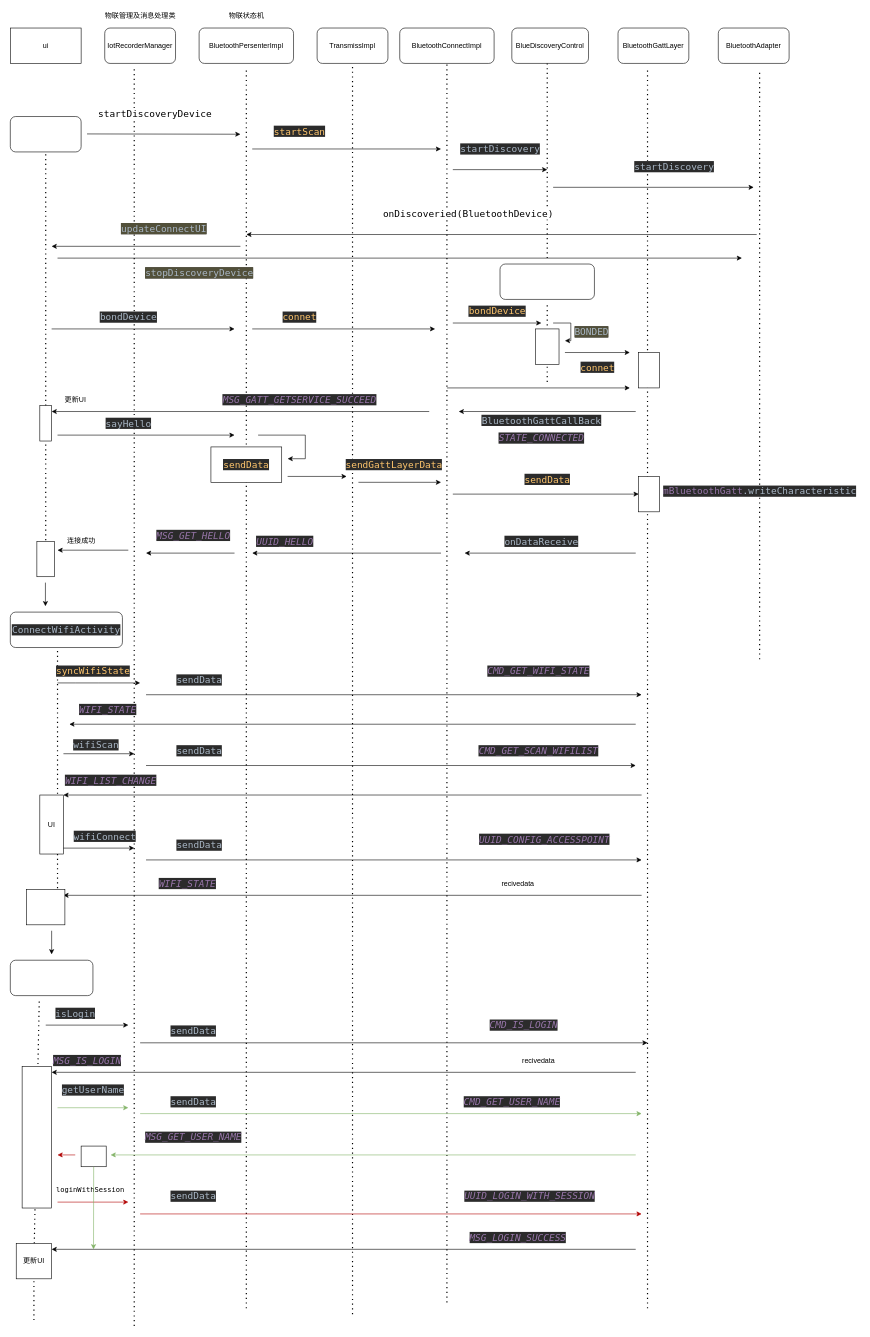
The diagram is 870 pixels wide and 1337 high, and some of its shapes have lost their labels. Each missing label, with the centre of its shape:
"BlueBondControl" goes at point (546, 281).
"LoginActivity" goes at point (51, 978).
"Search302Activity" goes at point (45, 134).
"wifi connect" goes at point (45, 907).
"登录 未登录" goes at point (37, 1137).
